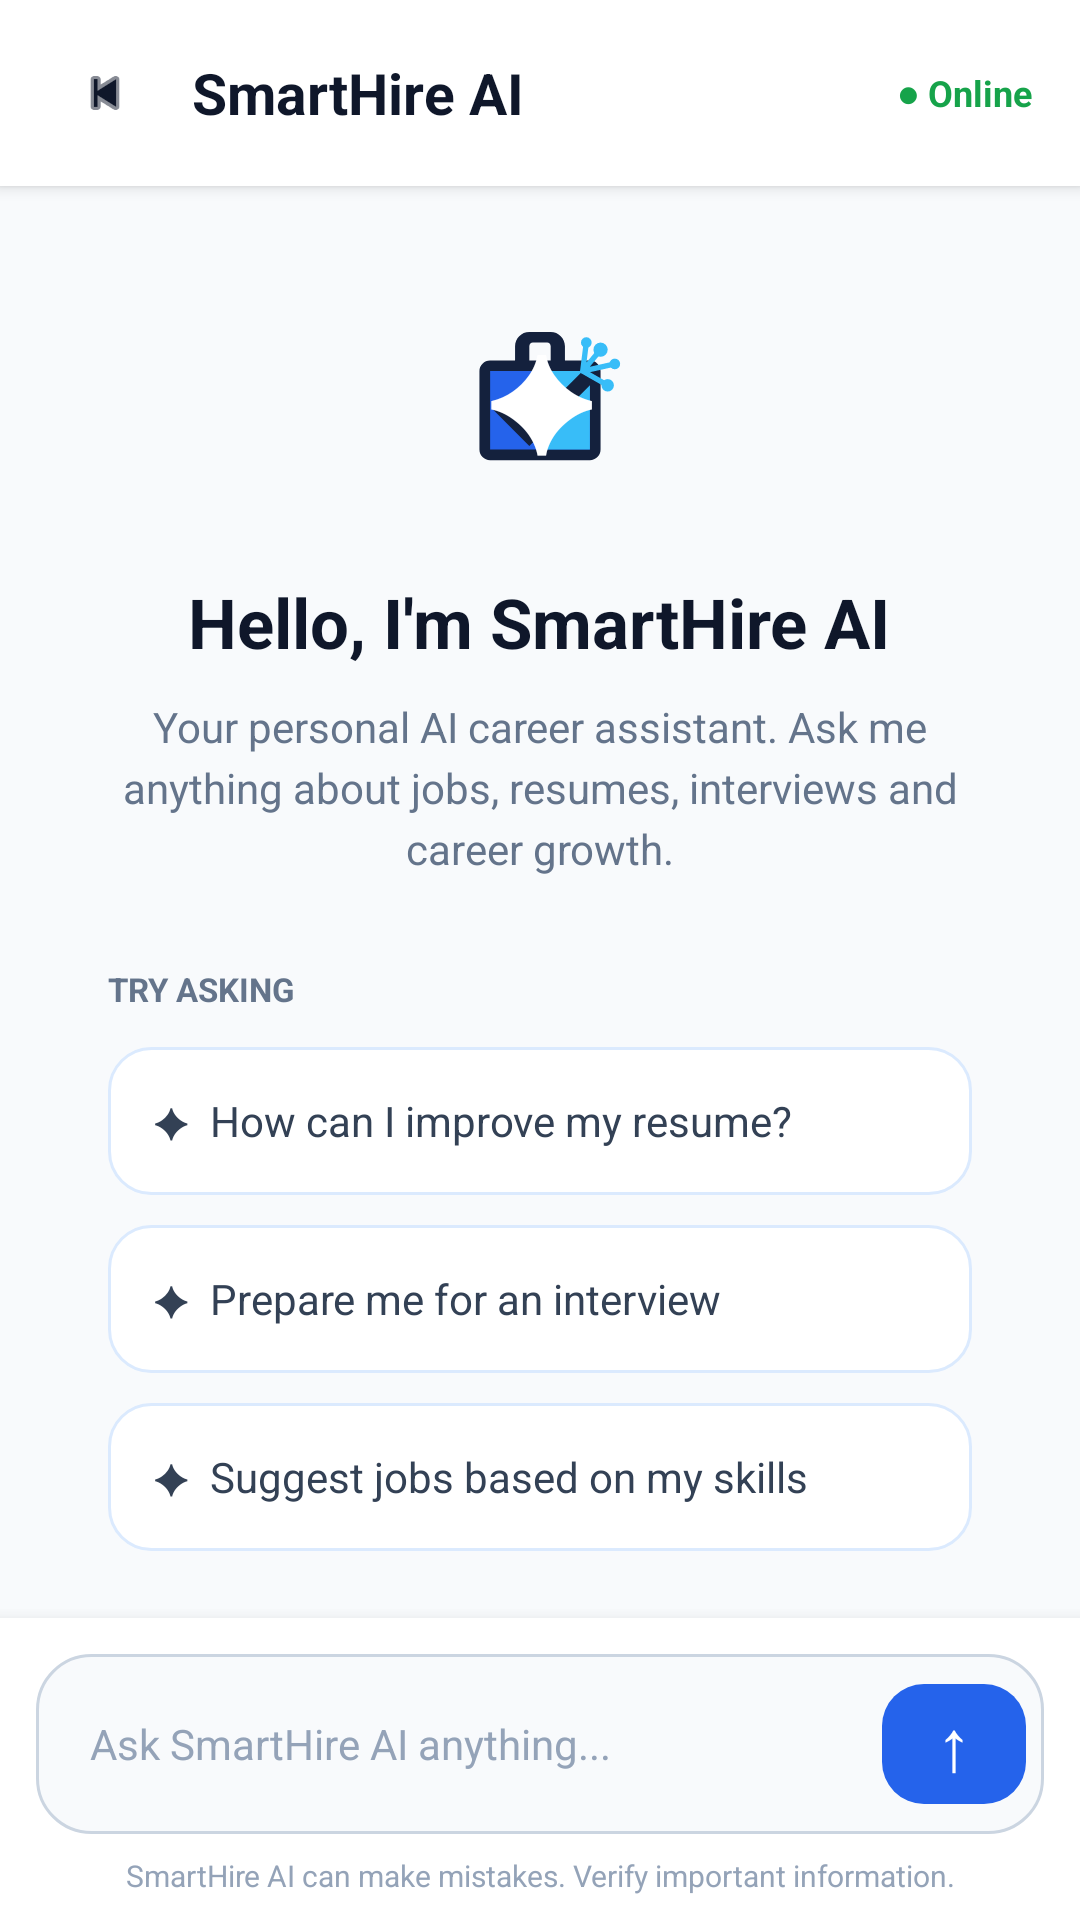

Icons on this 1080w x 1920h Android screen, each with its box as (x1, y1, x2, y2):
Back: (90, 76, 120, 110)
